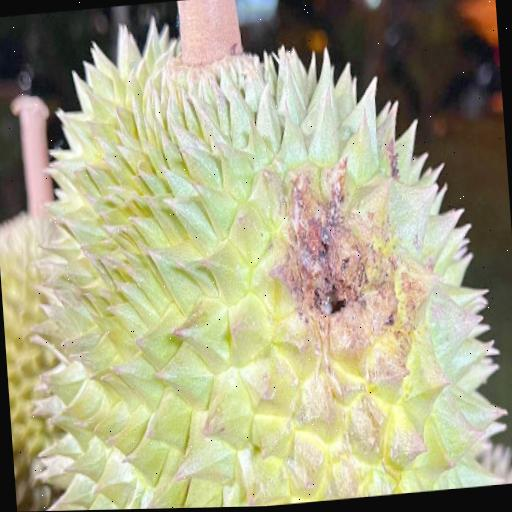rot: (7, 0, 512, 512)
